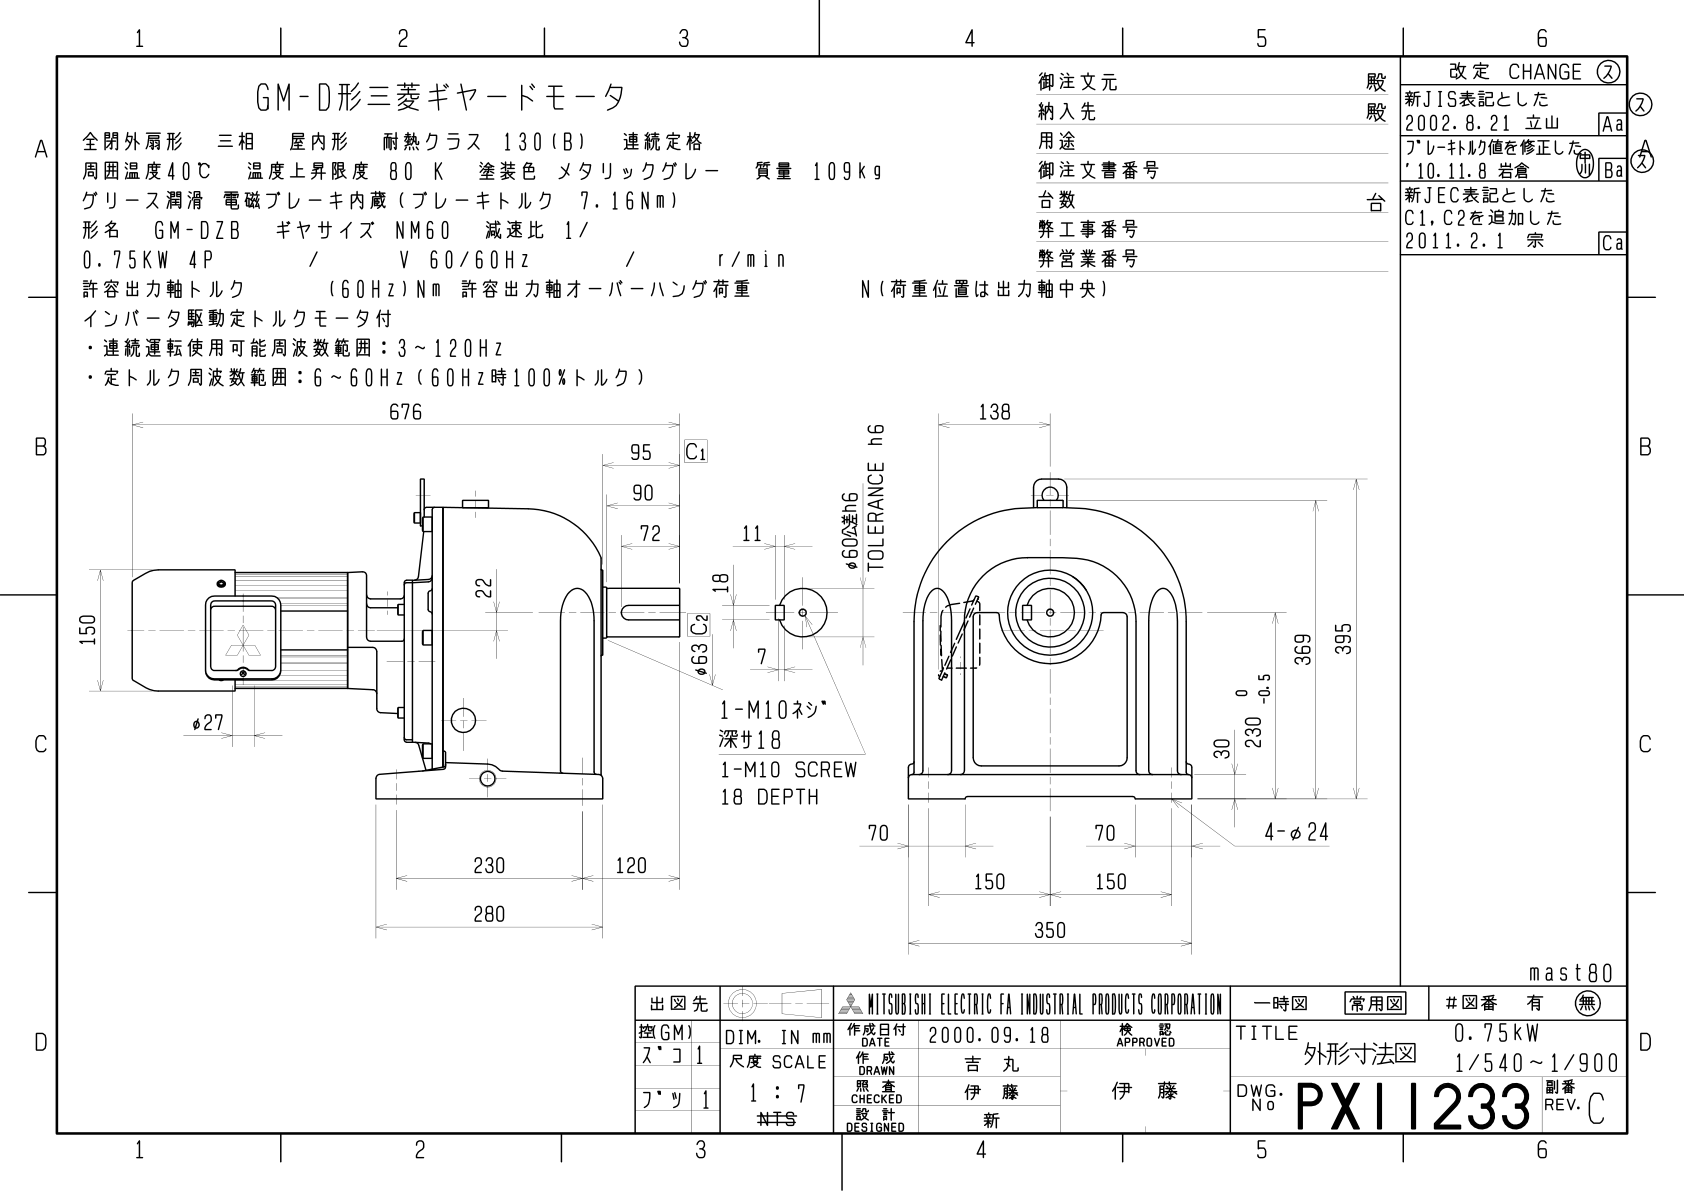GM_D_インバータ屋内_三相_脚: (8, 12, 1684, 1191)
